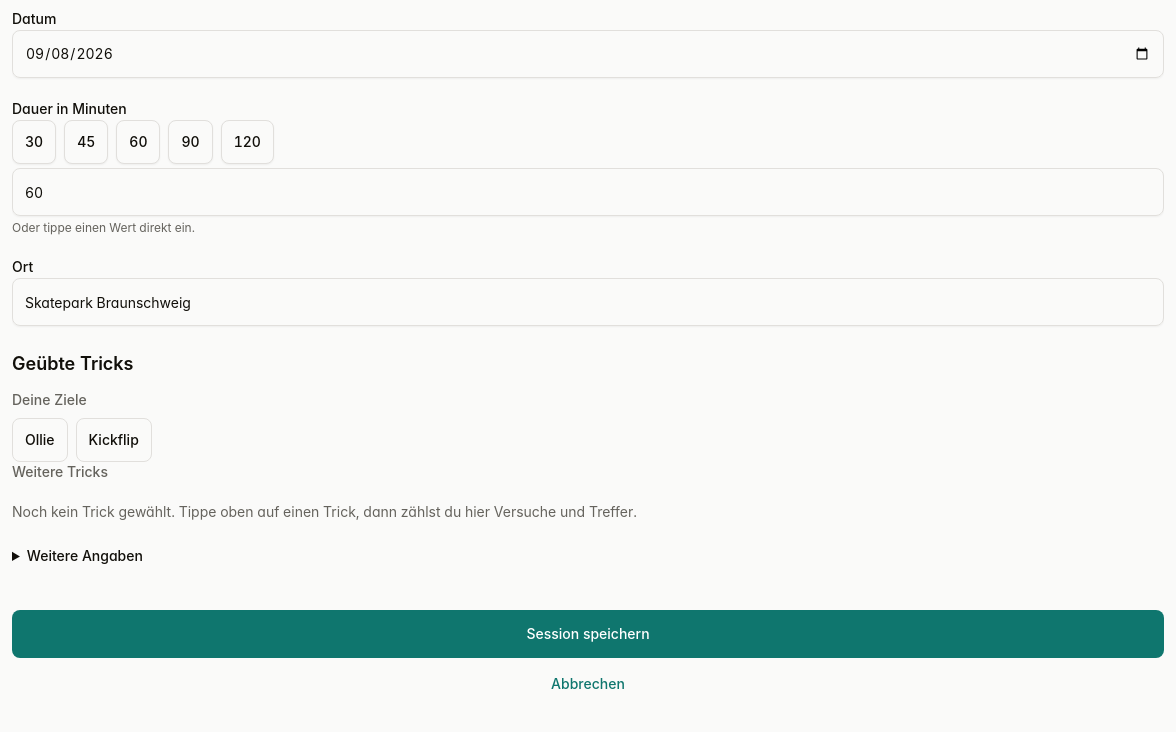
Test case: SessionForm › Kriterium 17: a duration of 0 is rejected on submit, without a request
Replace the text in the number field labelled "Dauer in Minuten" with "0" at (588,192), box [12,168,1164,216]
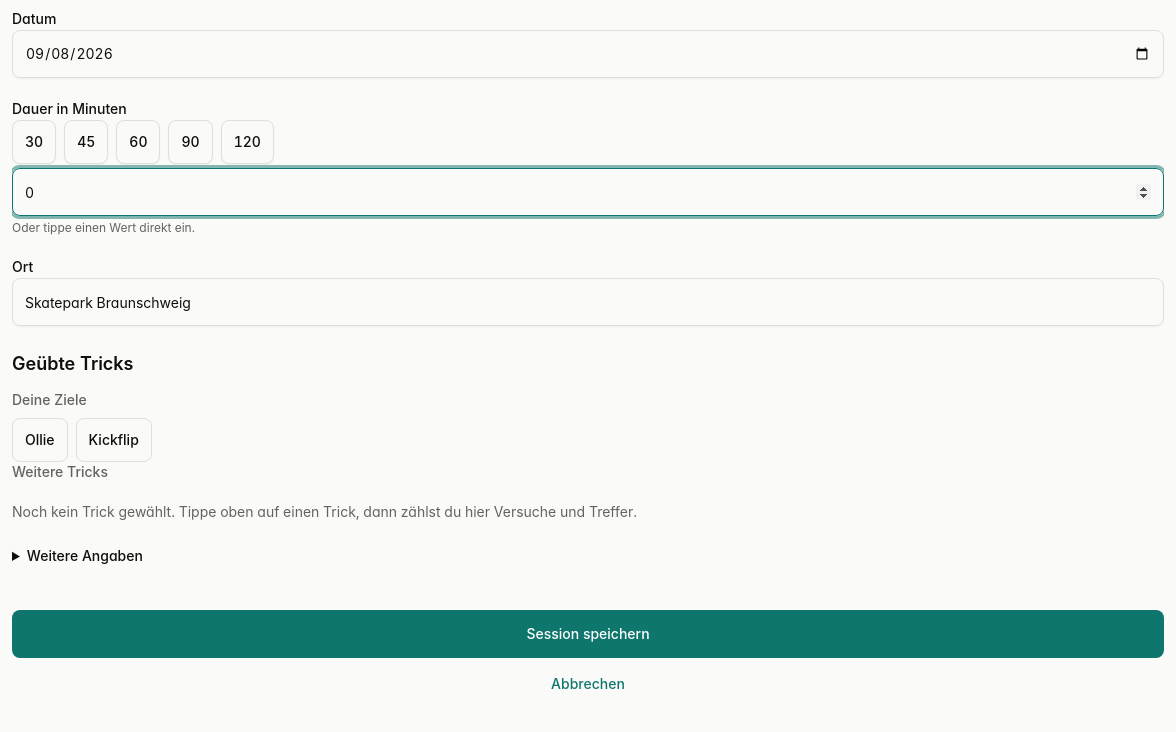
Click the button "Session speichern" at (588,634), box [12,610,1164,658]
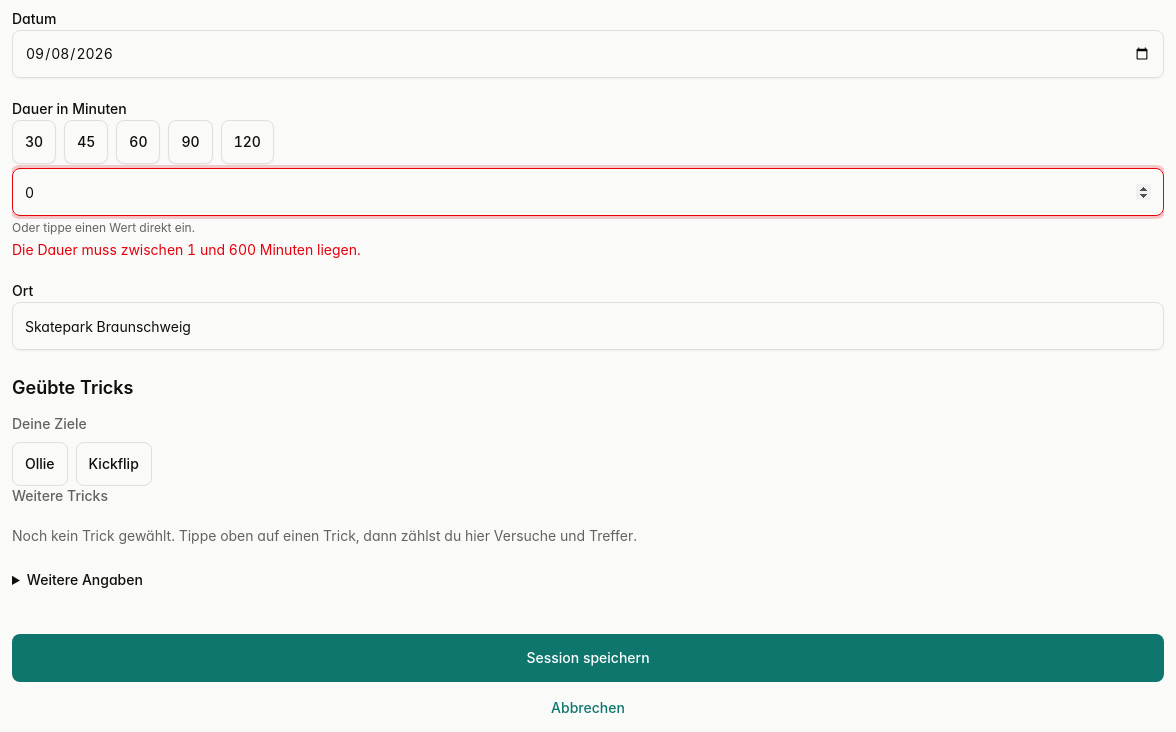
Expected: the text "Die Dauer muss zwischen 1 und 600 Minuten liegen." is shown, [12,241,361,258]
